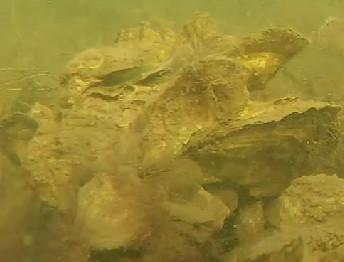Oyster-Closed: (174, 100, 340, 197), (219, 31, 304, 90), (217, 234, 307, 262)
Oyster-Open: (26, 104, 142, 224), (129, 58, 252, 168), (61, 26, 165, 100), (268, 175, 344, 262), (74, 176, 151, 249), (1, 114, 38, 167)
